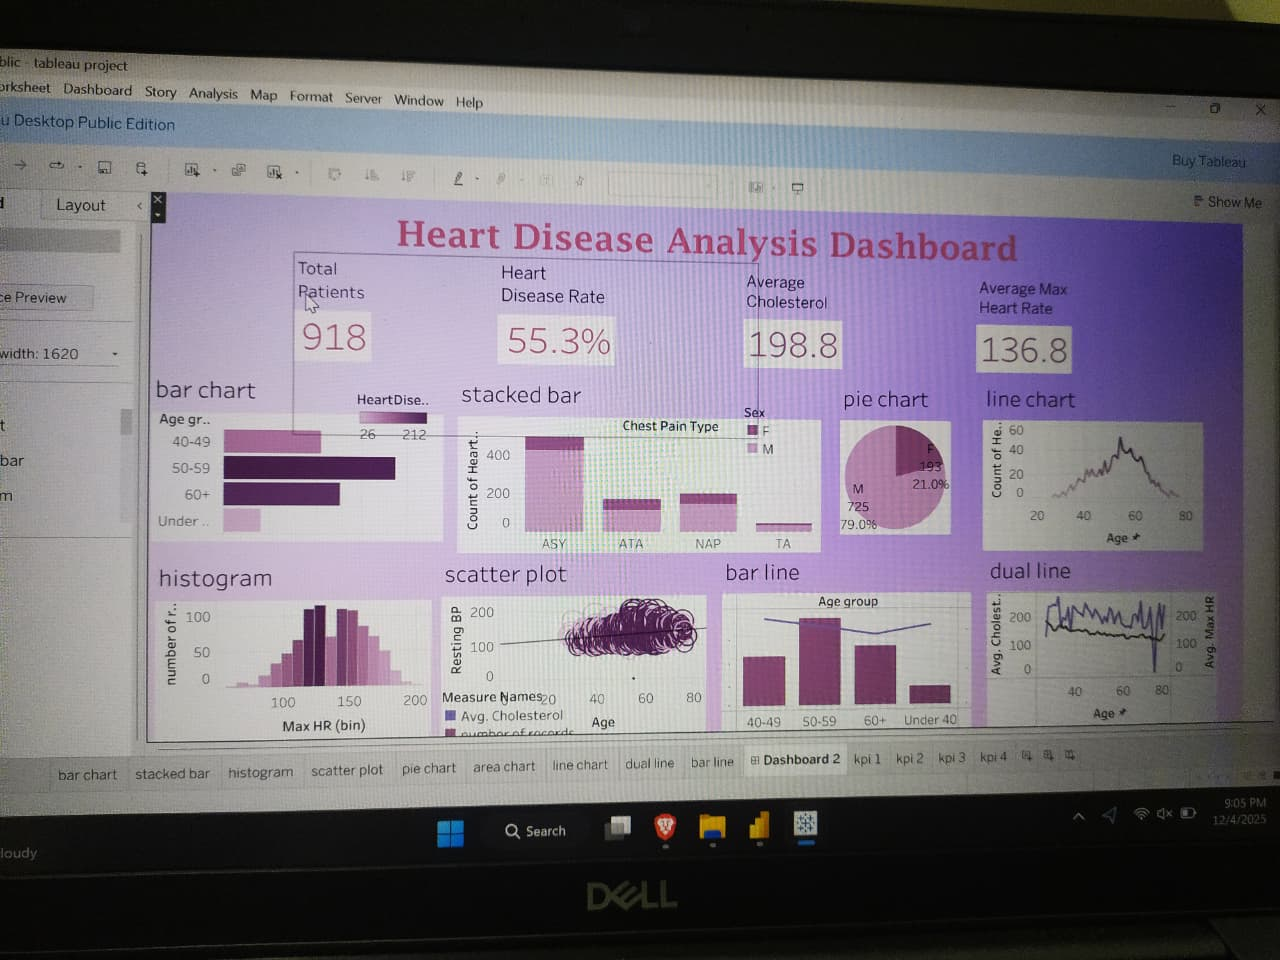

This screenshot's page, from the dashboard's own definition file:
{"tool":"tableau","page":{"name":"Dashboard 2","canvas":[1000,1000],"units":"permille","ordinal":0},"visuals":[{"type":"text","box":[159.9,8.2,588.3,111]},{"type":"worksheet","title":"kpi 1","mark":"Automatic","box":[116.7,105.5,388.9,332.9]},{"type":"worksheet","title":"kpi 2","mark":"Automatic","box":[283.3,105.5,284.6,217.8]},{"type":"worksheet","title":"kpi 3","mark":"Automatic","box":[493.2,113.7,326.5,390.4]},{"type":"worksheet","title":"line chart","mark":"Line","rows":["HeartDisease"],"cols":["Age"],"box":[706.8,321.9,204.9,332.9]},{"type":"worksheet","title":"bar chart","mark":"Automatic","rows":["Calculation_1759781566538186752"],"cols":["HeartDisease"],"box":[4.3,323.3,243.2,350.7]},{"type":"worksheet","title":"stacked bar","mark":"Automatic","rows":["HeartDisease"],"cols":["ChestPainType"],"box":[250.6,324.7,311.1,332.9]},{"type":"worksheet","title":"pie chart","mark":"Pie","box":[578.4,324.7,174.7,374]},{"type":"legend","title":"bar chart","param":"[federated.1liyec60aqyg2711nfrqx1hvdwam].[sum:HeartDisease:qk]","box":[167.3,354.8,60.5,106.9]},{"type":"legend","title":"stacked bar","param":"[federated.1liyec60aqyg2711nfrqx1hvdwam].[none:Sex:nk]","box":[493.8,371.2,86.4,104.1]},{"type":"worksheet","title":"dual line","mark":"Automatic","rows":["Cholesterol","MaxHR"],"cols":["Age"],"box":[710.5,657.5,215.4,343.8]},{"type":"worksheet","title":"bar line","mark":"Automatic","rows":["Calculation_1759781566605508609","Cholesterol"],"cols":["Calculation_1759781566538186752"],"box":[475.3,658.9,221.6,341.1]},{"type":"worksheet","title":"scatter plot","mark":"Automatic","rows":["RestingBP"],"cols":["Age"],"box":[237.7,660.3,224.1,341.1]},{"type":"worksheet","title":"histogram","mark":"Automatic","rows":["Calculation_1759781566605508609"],"cols":["Max HR (bin)"],"box":[8,665.8,221.6,332.9]}]}

Visuals, with their boxes on the dashboard's canvas, which has no fixed pixel size, in thousandths of its width and height (x1, y1, x2, y2). These are canvas units, not pixel positions in the 1280x960 screenshot, which may show the page scaled, cropped or inside an application window:
text: 160, 8, 748, 119
"kpi 1" worksheet: 117, 106, 506, 438
"kpi 2" worksheet: 283, 106, 568, 323
"kpi 3" worksheet: 493, 114, 820, 504
"line chart" worksheet (Line marks): 707, 322, 912, 655
"bar chart" worksheet: 4, 323, 248, 674
"stacked bar" worksheet: 251, 325, 562, 658
"pie chart" worksheet (Pie marks): 578, 325, 753, 699
"bar chart" legend: 167, 355, 228, 462
"stacked bar" legend: 494, 371, 580, 475
"dual line" worksheet: 710, 658, 926, 1001
"bar line" worksheet: 475, 659, 697, 1000
"scatter plot" worksheet: 238, 660, 462, 1001
"histogram" worksheet: 8, 666, 230, 999
